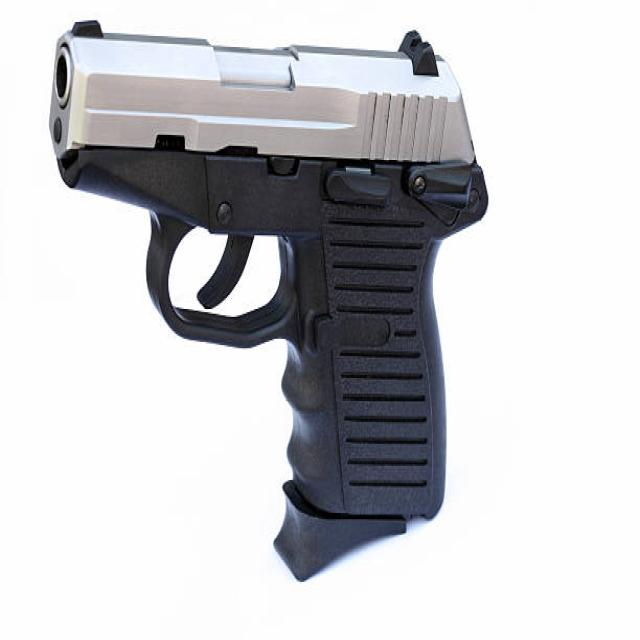pistol: (46, 17, 492, 596)
